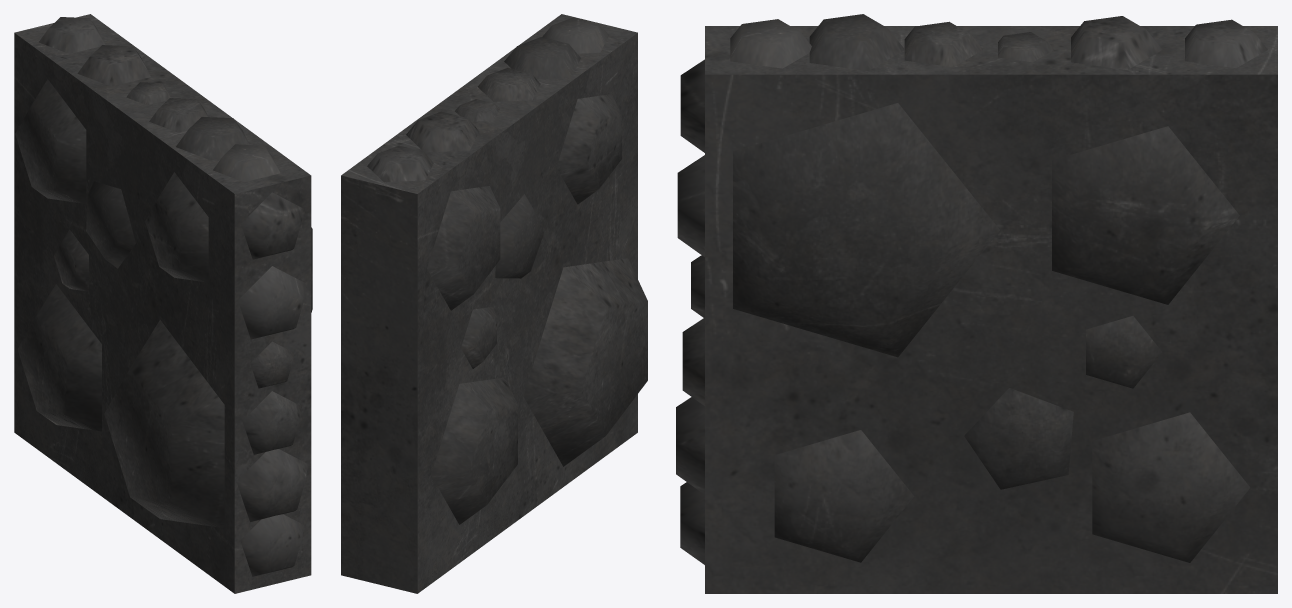
File: mod_ogga_wall1.fbx
3 views of the same model, side by side, from view 1: azimuth 30°, elevation 25°; view 2: azimuth 150°, elevation 25°; view 3: azimuth 270°, elevation 25° (orthographic). The views are drawn at different scales.
Visible parts, largest first — view 1: pCube16; view 2: pCube16; view 3: pCube16.
Part boxes in pixels (x1=…): pCube16: x1=14, y1=14, x2=312, y2=593; pCube16: x1=341, y1=14, x2=647, y2=593; pCube16: x1=676, y1=14, x2=1277, y2=593.
Bounding box in the file's own units: 3.68 × 10.41 × 10.5.
